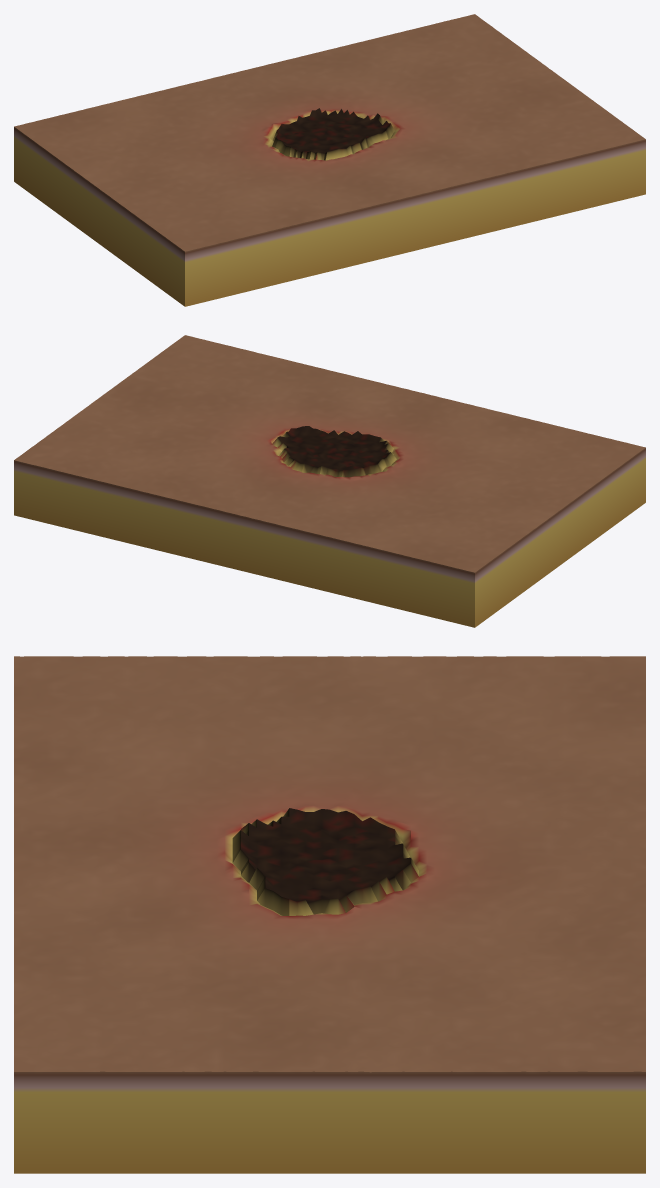
The model's file is care_necrose.glb.
3 renders of one model, top to bottom at view 1: azimuth 30°, elevation 25°; view 2: azimuth 150°, elevation 25°; view 3: azimuth 270°, elevation 25°, orthographic. The views are drawn at different scales.
Visible parts, largest first — view 1: care_necrose; view 2: care_necrose; view 3: care_necrose.
Part boxes in pixels (left/top/right/bottom): care_necrose: left=14, top=14, right=645, bottom=306; care_necrose: left=14, top=335, right=645, bottom=627; care_necrose: left=14, top=656, right=645, bottom=1173.
Size of the model in its own units: 14 by 1.79 by 9.
